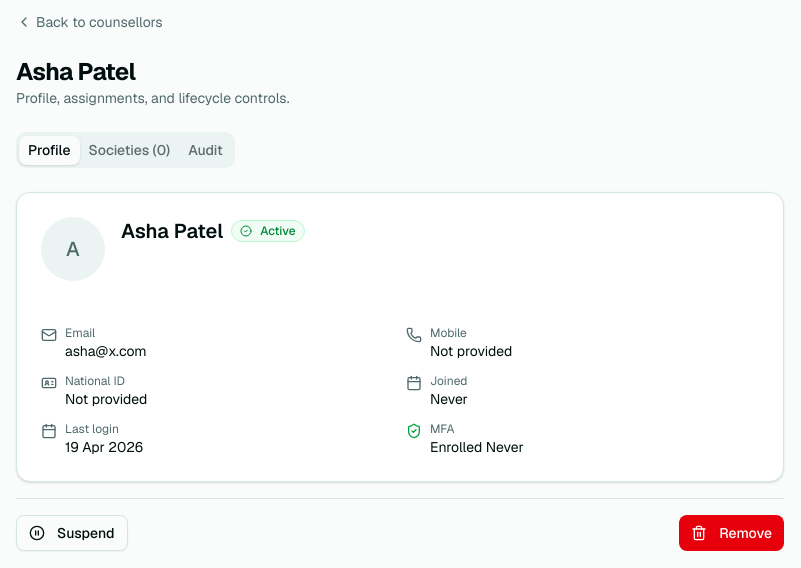
Test: CounsellorDetailPage › shows empty state on Societies tab when no assignments
Click the tab "Societies (0)". click: (129, 150)
box: [80, 136, 179, 164]
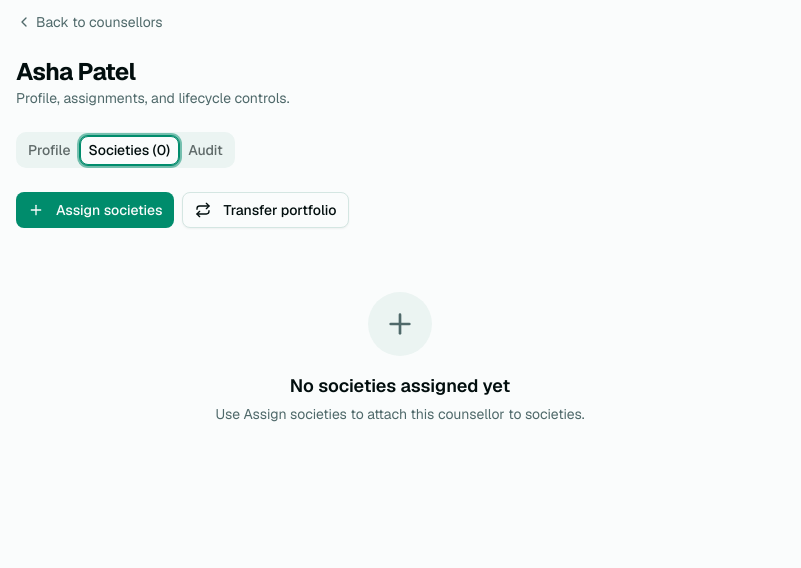
Expected: the heading "No societies assigned yet" is shown, [290, 372, 510, 400]
